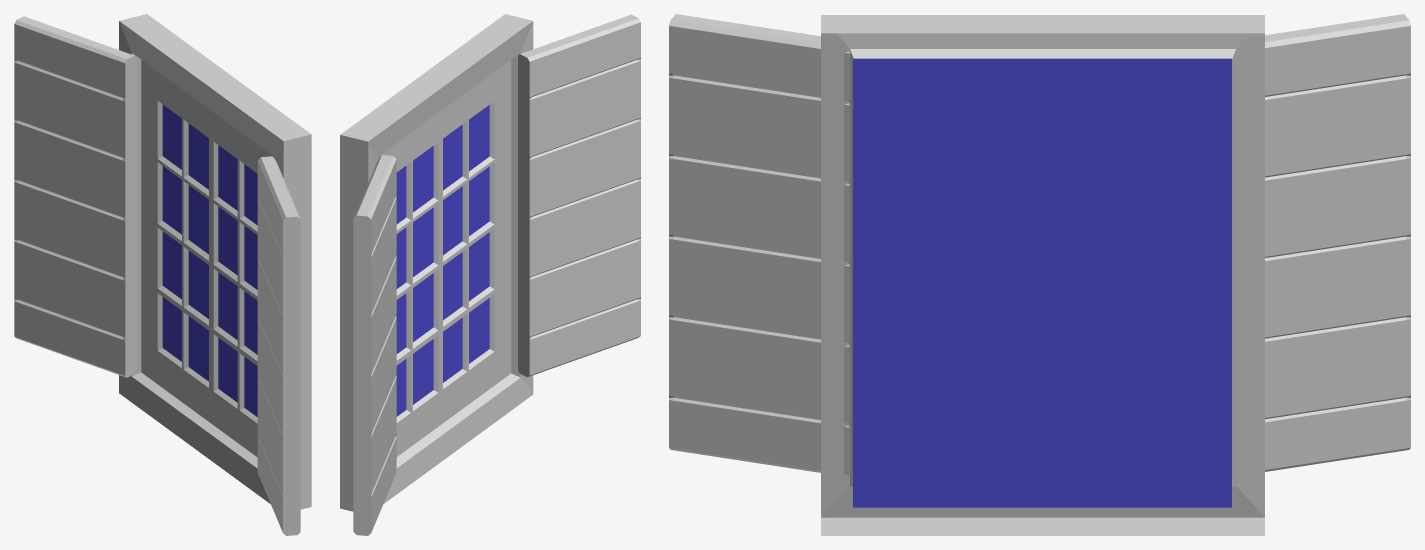
The model's file is Window_Rustic1.fbx.
3 views of the same model, side by side, from view 1: azimuth 30°, elevation 25°; view 2: azimuth 150°, elevation 25°; view 3: azimuth 270°, elevation 25° (orthographic). The views are drawn at different scales.
Parts seen in each view (by area): view 1: Cube; view 2: Cube; view 3: Cube.
Boxes of the visible parts, box(x1,y1,x2,y2) form: Cube: box(14, 14, 311, 535); Cube: box(340, 14, 640, 535); Cube: box(669, 14, 1410, 535).
Bounding box in the file's own units: 17.04 × 74.08 × 99.1.
